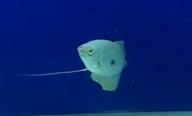Gourami: (14, 37, 130, 94)
